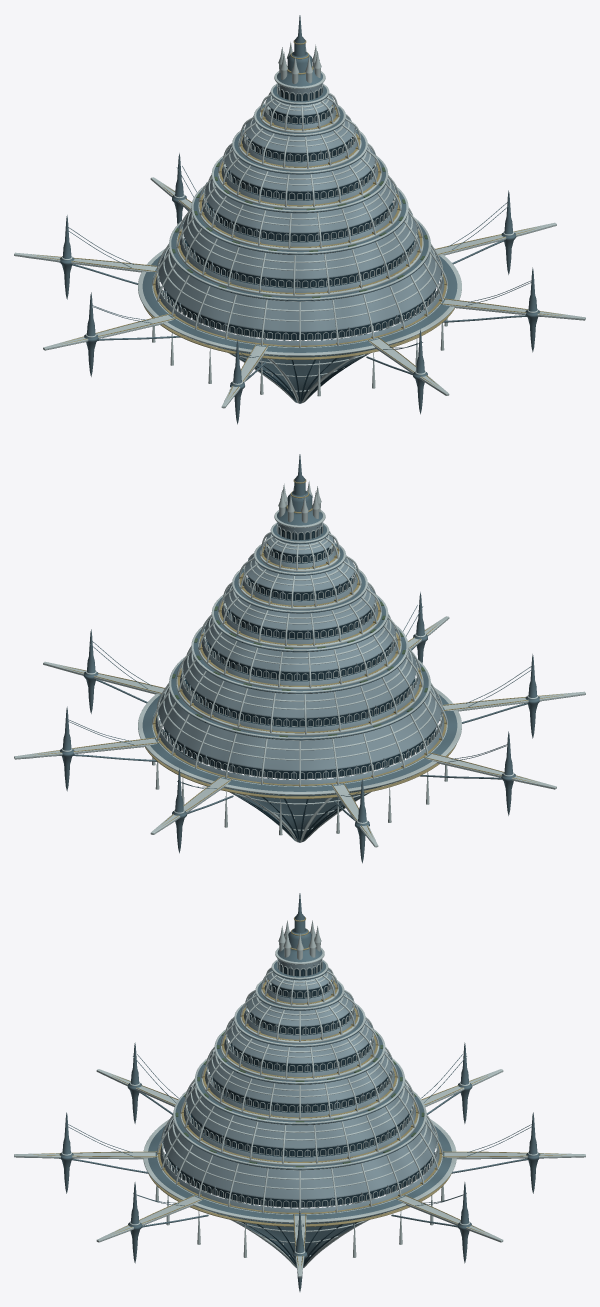
File: sky-citadel-v2.glb
3 renders of one model, top to bottom at view 1: azimuth 30°, elevation 25°; view 2: azimuth 150°, elevation 25°; view 3: azimuth 270°, elevation 25°, orthographic. The views are drawn at different scales.
Visible parts, largest first — view 1: ledge, limestone, metal, recess, gold, garden; view 2: ledge, limestone, metal, recess, gold, garden; view 3: ledge, limestone, metal, recess, gold.
Boxes of the visible parts, left/top/right/bottom form: ledge: left=14, top=42, right=585, bottom=408; limestone: left=155, top=83, right=444, bottom=345; metal: left=26, top=15, right=540, bottom=424; recess: left=159, top=87, right=441, bottom=400; gold: left=33, top=40, right=566, bottom=397; garden: left=172, top=162, right=427, bottom=298; ledge: left=14, top=481, right=585, bottom=847; limestone: left=155, top=522, right=444, bottom=784; metal: left=25, top=454, right=539, bottom=863; recess: left=161, top=527, right=439, bottom=839; gold: left=33, top=479, right=566, bottom=836; garden: left=172, top=601, right=427, bottom=737; ledge: left=14, top=920, right=585, bottom=1277; limestone: left=160, top=958, right=439, bottom=1212; metal: left=24, top=893, right=543, bottom=1291; recess: left=165, top=962, right=433, bottom=1265; gold: left=33, top=917, right=566, bottom=1266.
Bounding box in the file's own units: 58.12 × 42.3 × 58.12.
